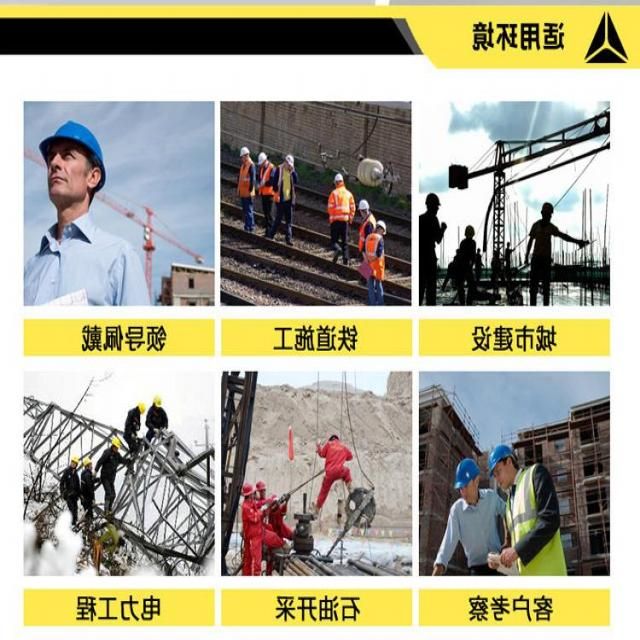Reflective-Jacket: (502, 466, 567, 576), (365, 233, 386, 280), (240, 500, 262, 541), (328, 187, 352, 220), (278, 166, 295, 202), (258, 164, 274, 196)
Safety-Helmet: (38, 116, 108, 172), (486, 439, 518, 473), (452, 457, 480, 492), (425, 192, 442, 206), (152, 392, 165, 410), (109, 436, 123, 451), (540, 200, 556, 213), (242, 481, 255, 496), (358, 198, 371, 212), (284, 152, 295, 168), (256, 478, 267, 493), (334, 172, 346, 185), (464, 224, 476, 236), (136, 400, 146, 414), (258, 150, 268, 164), (239, 146, 250, 158), (378, 219, 388, 232), (70, 452, 80, 464), (84, 456, 93, 468)
